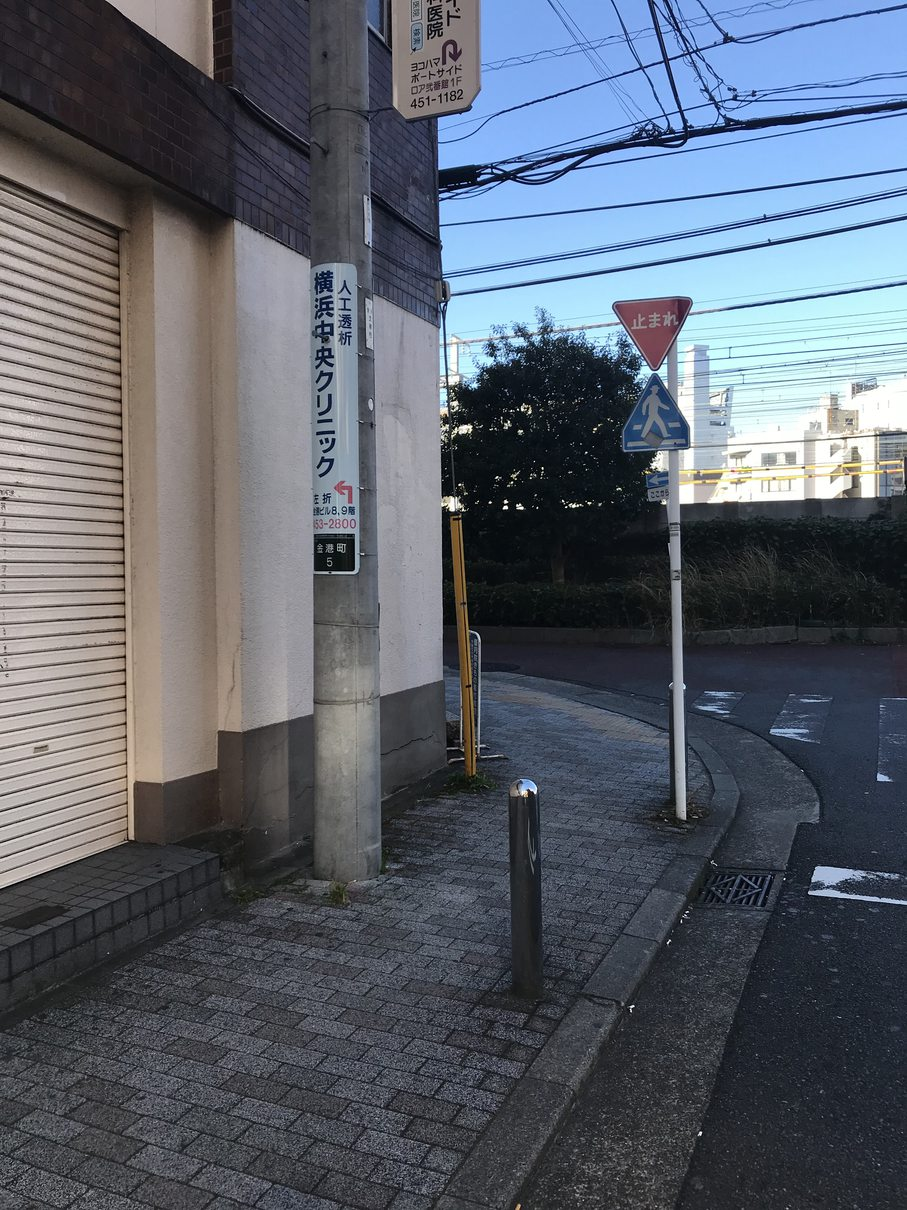stop_sign: (610, 293, 693, 371)
